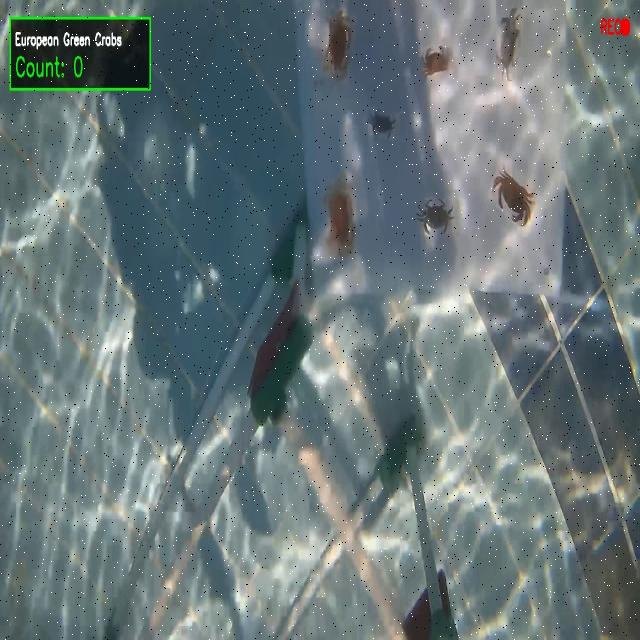European_Green_Crab: (492, 5, 526, 89), (415, 193, 454, 240), (363, 105, 399, 141)
